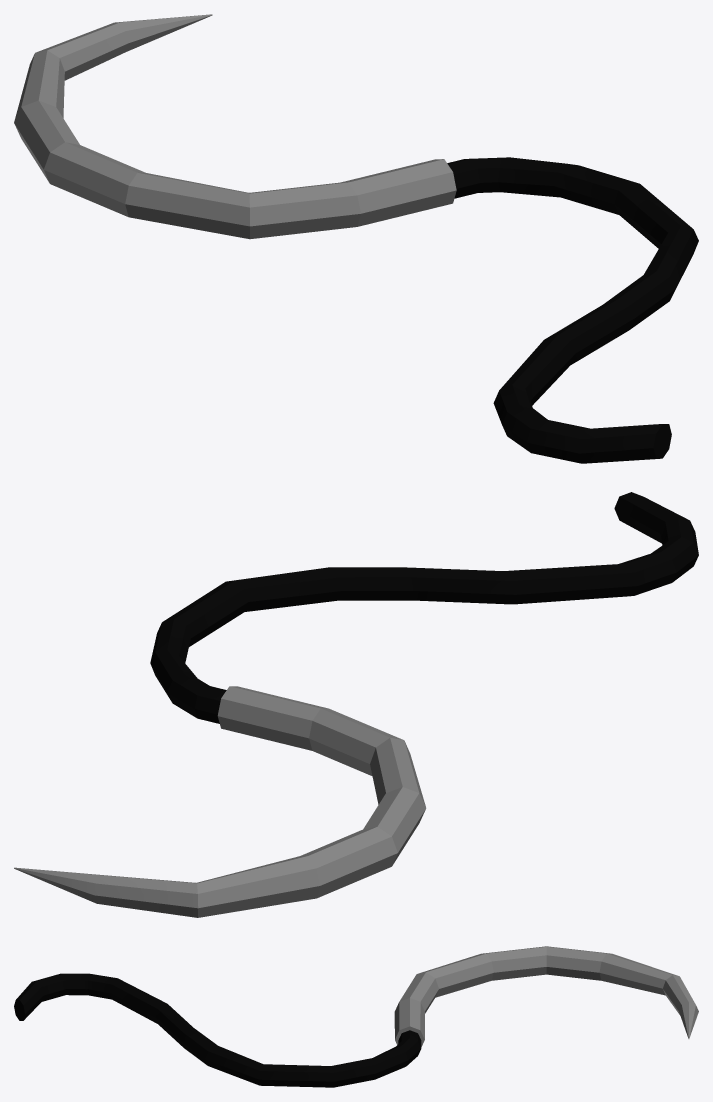
File: SurgicalNeedle.fbx
3 views of the same model, one above another, from view 1: azimuth 30°, elevation 25°; view 2: azimuth 150°, elevation 25°; view 3: azimuth 270°, elevation 25° (orthographic). The views are drawn at different scales.
Parts seen in each view (by area): view 1: pCylinder22, SurgicalNeedle; view 2: pCylinder22, SurgicalNeedle; view 3: SurgicalNeedle, pCylinder22.
Boxes of the visible parts, <box> form: pCylinder22: <box>14,14,456,239</box>; SurgicalNeedle: <box>447,157,698,463</box>; pCylinder22: <box>14,686,426,917</box>; SurgicalNeedle: <box>150,492,698,723</box>; SurgicalNeedle: <box>14,973,421,1087</box>; pCylinder22: <box>394,946,698,1046</box>.
Bounding box in the file's own units: 0.8958 × 0.0899 × 2.04.
